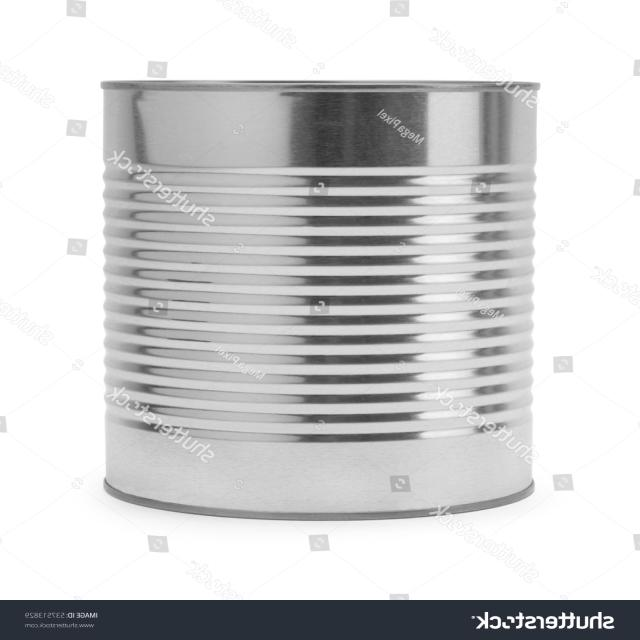metal: (91, 74, 544, 524)
